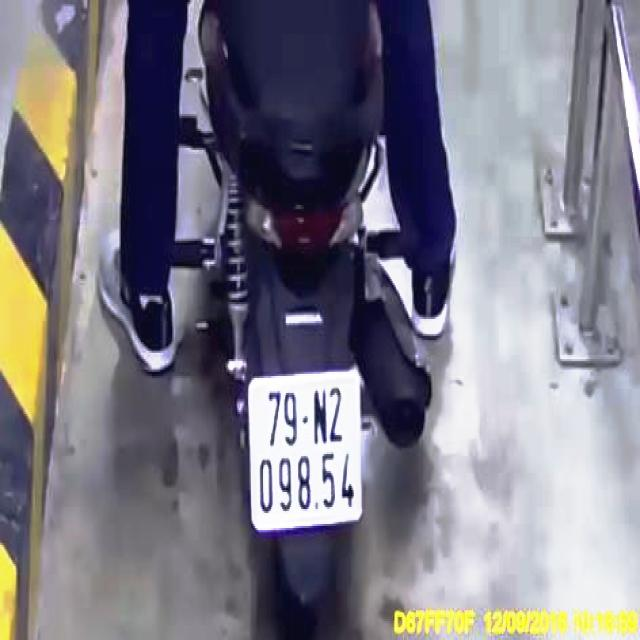license_plate: (250, 374, 365, 529)
